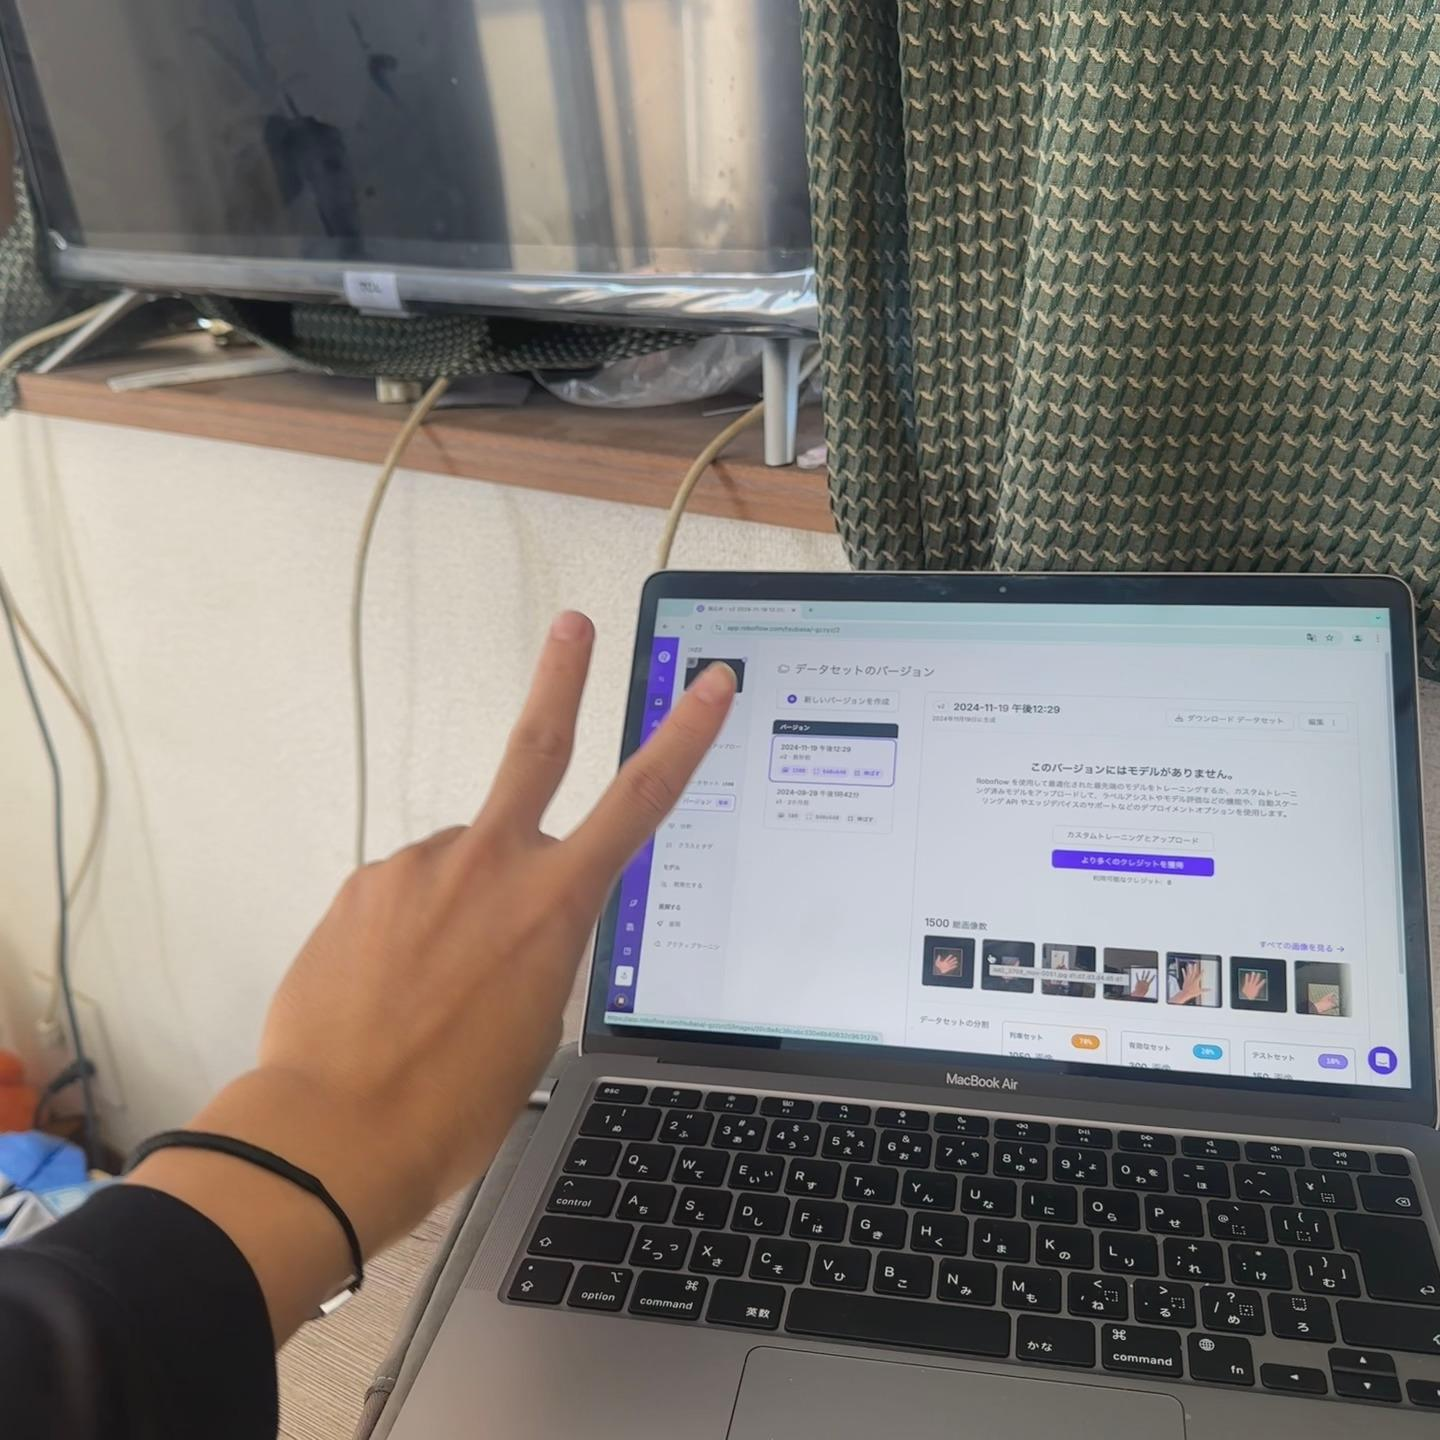without_gloves: (315, 520, 802, 1139)
